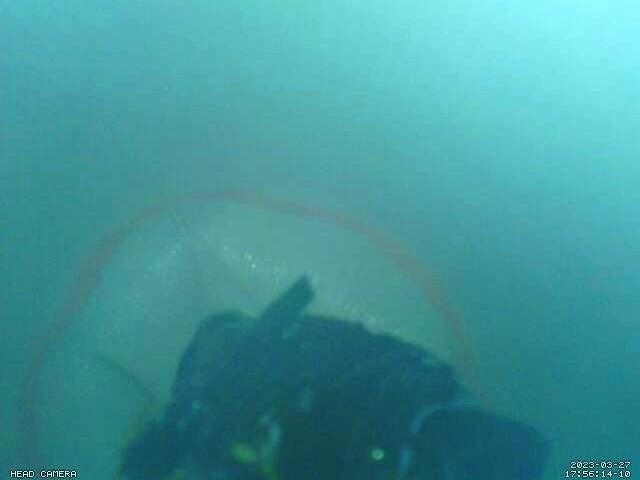head: (15, 188, 495, 480)
